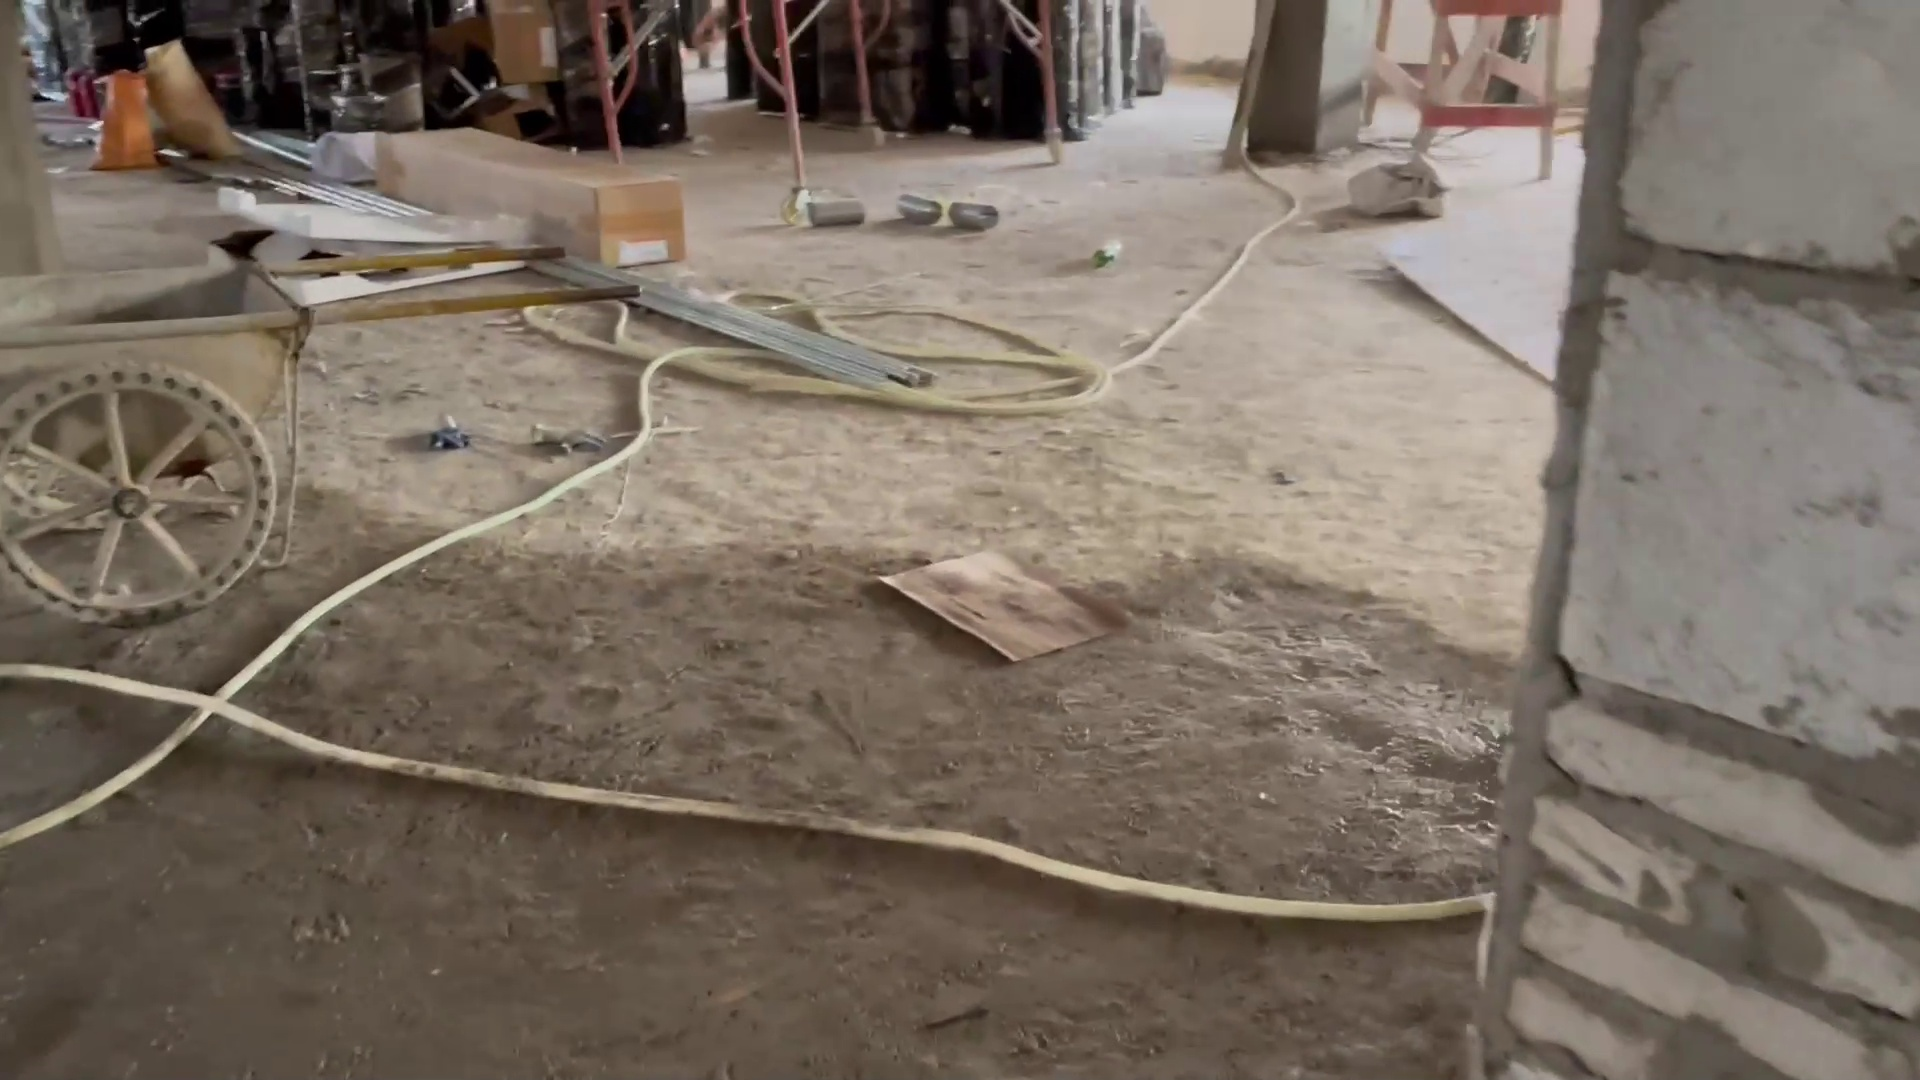handcart: (1, 229, 667, 646)
